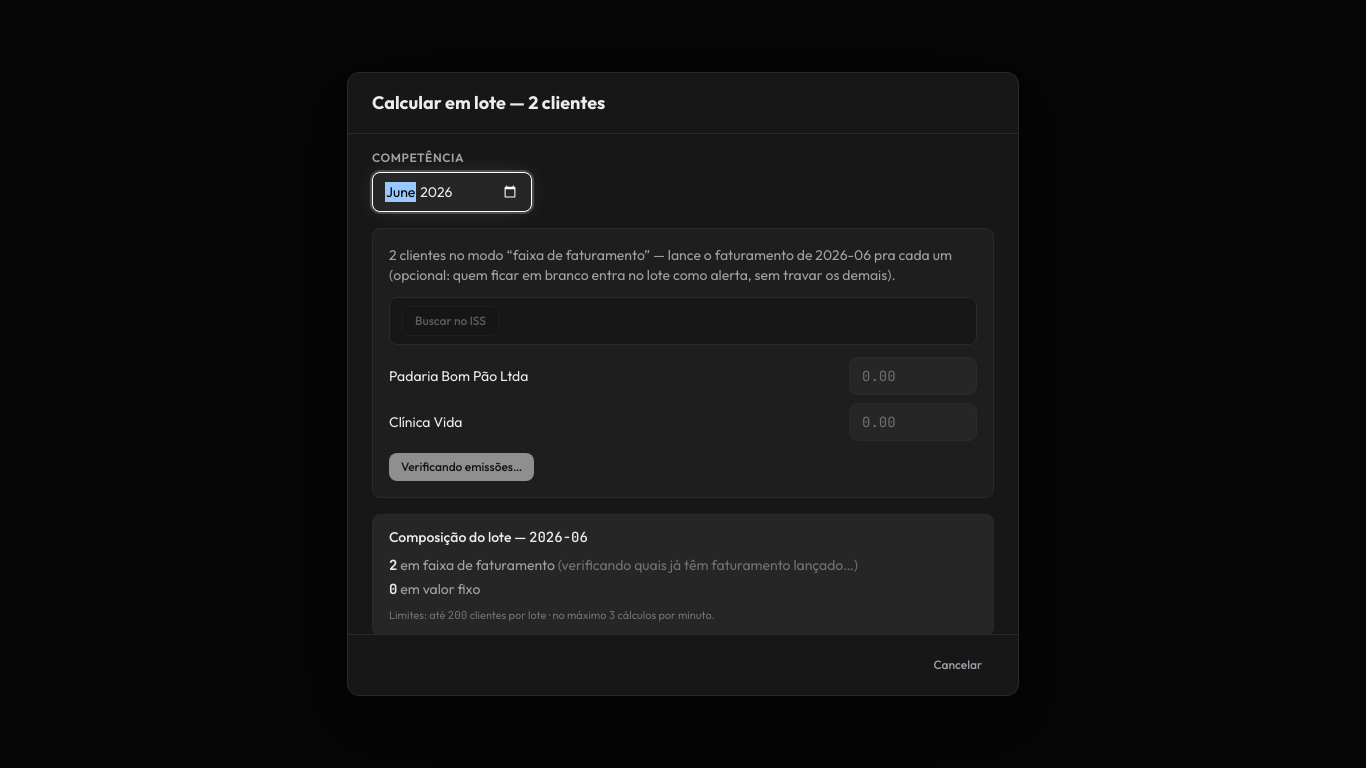
Test: LoteContabilidadeDialog — lançamento de faturamento em massa (Story 12.4) › AC 4: trocar a competência com valores digitados limpa os campos e pede confirmação
Type "4500" into the number field with placeholder "0.00" in the row of "Padaria Bom Pão Ltda" at coordinates (913, 376), box [849,357,977,395]
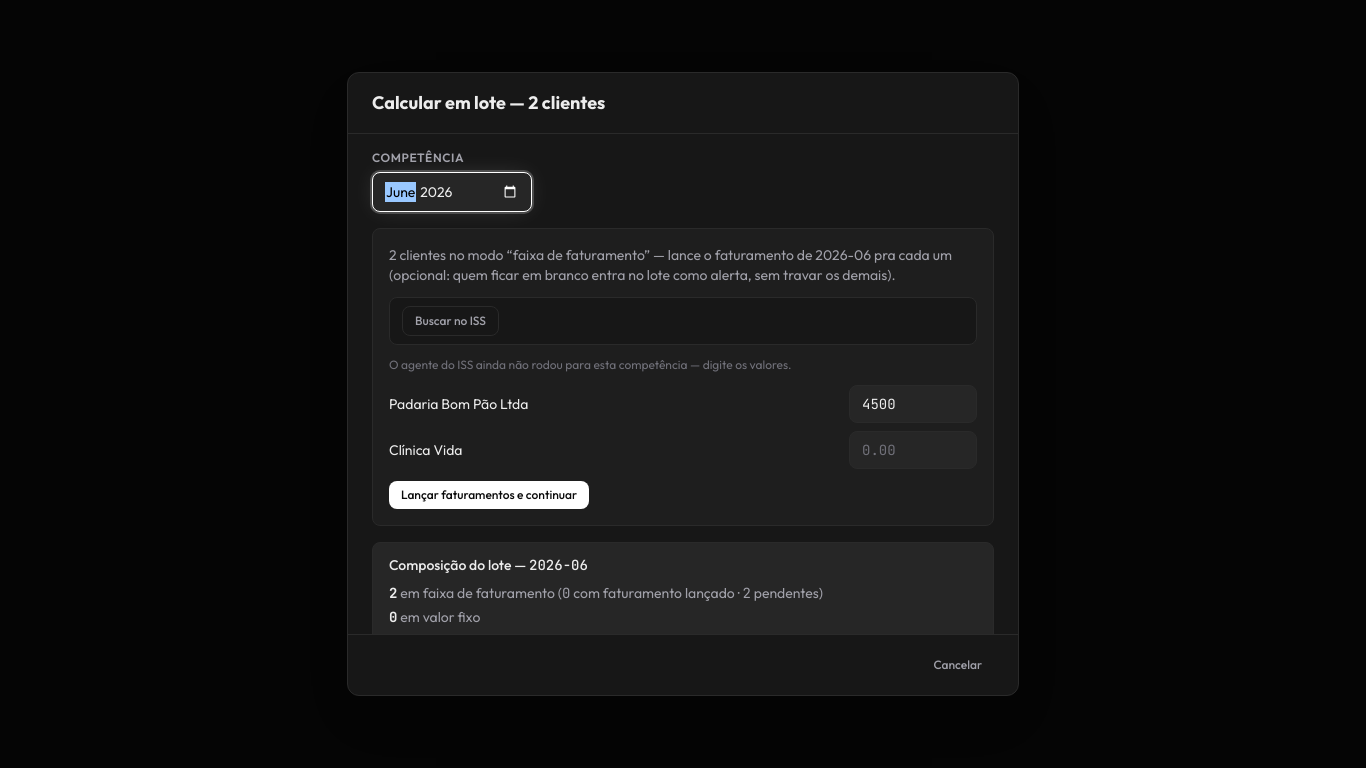
Replace the text in the field labelled "Competência" with "2026-07" at coordinates (452, 192), box [372,172,532,212]
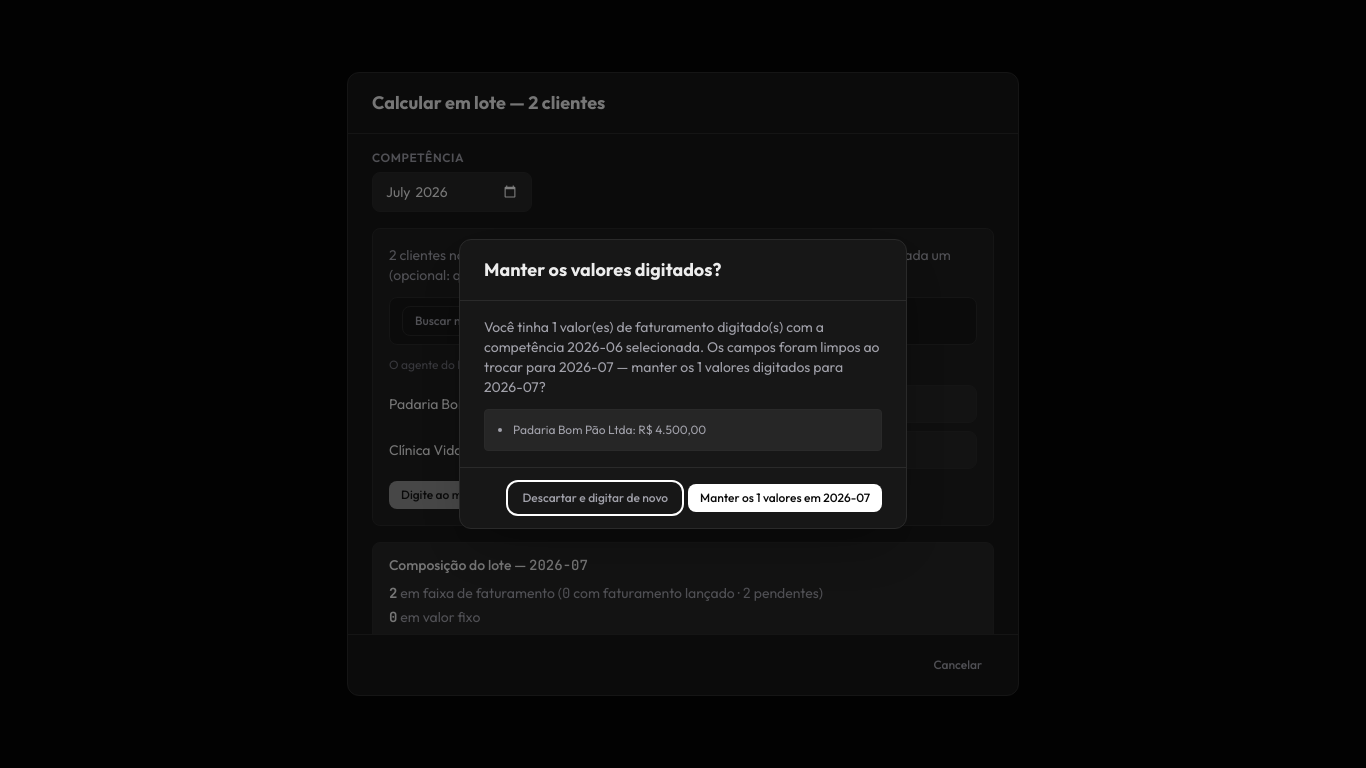
Result: the heading "Manter os valores digitados?" is shown at [484,256,722,284]
Result: the number field is not empty at [849,385,977,423]
Result: the text "manter os 1 valores digitados para 2026-07" is shown at [484,318,880,396]
Click the button "Descartar e digitar de novo" at coordinates (595, 498), box [510,484,680,512]
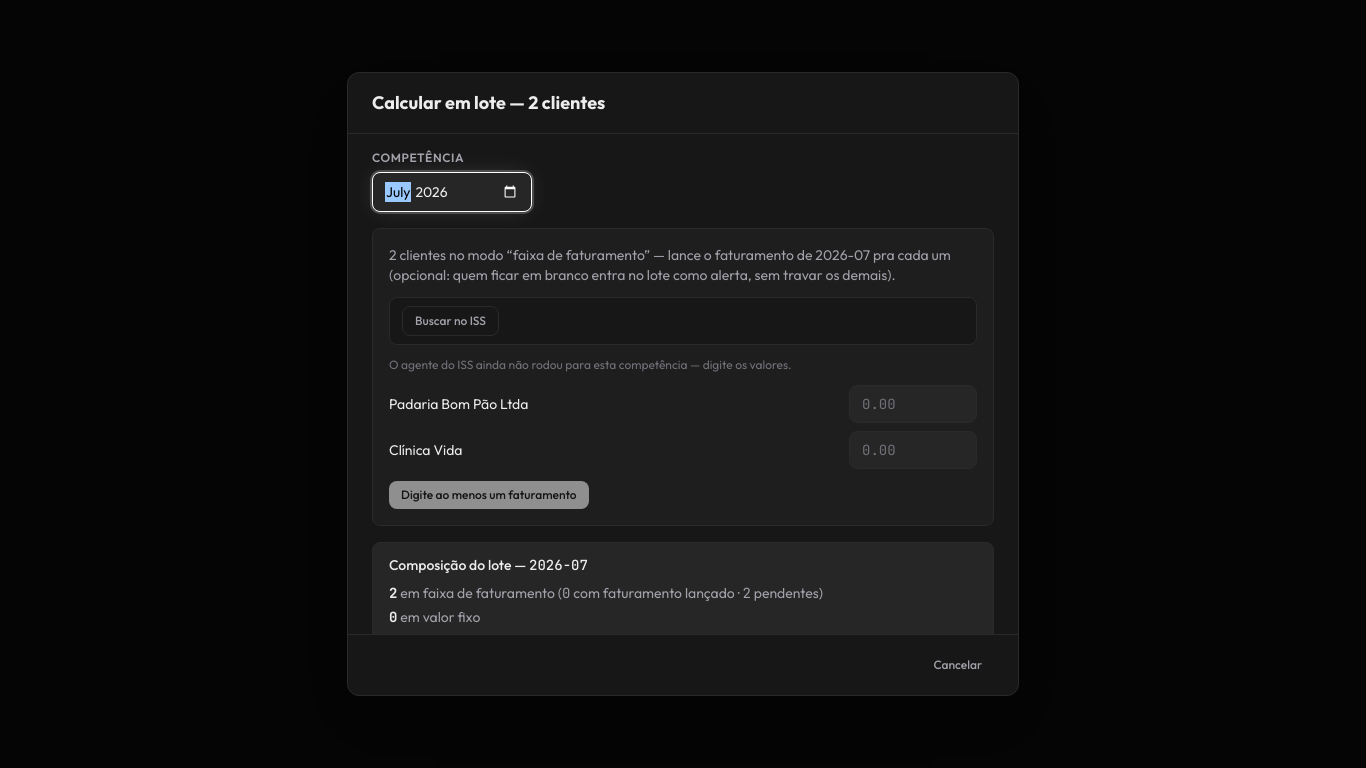
Result: the number field with placeholder "0.00" in the row of "Padaria Bom Pão Ltda" is not empty at [849,385,977,423]
Result: the heading "Manter os valores digitados?" is gone
